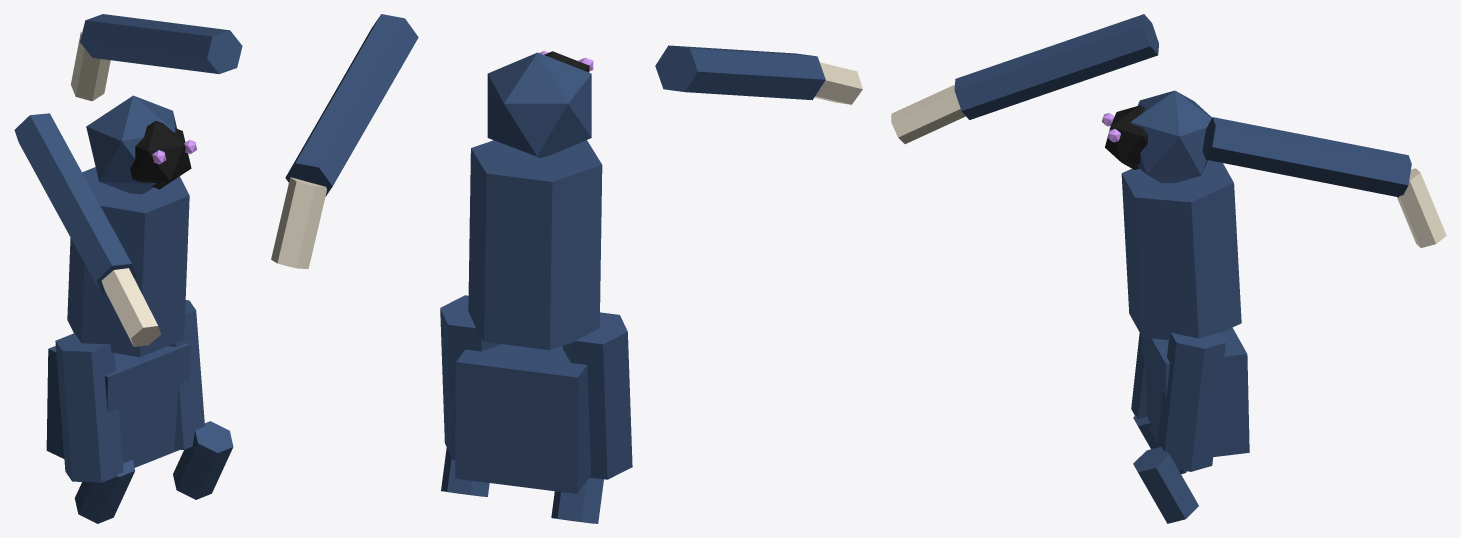
File: npcpose_wraith_attack_05.glb
3 renders of one model, left to right at view 1: azimuth 30°, elevation 25°; view 2: azimuth 150°, elevation 25°; view 3: azimuth 270°, elevation 25°, orthographic. The views are drawn at different scales.
Visible parts, largest first — view 1: npcpose; view 2: npcpose; view 3: npcpose.
Part boxes in pixels (x1,y1,x2,y2): npcpose: [14, 14, 242, 523]; npcpose: [271, 14, 862, 523]; npcpose: [891, 14, 1446, 523].
Size of the model in its own units: 0.7287 by 1.1 by 1.32.
